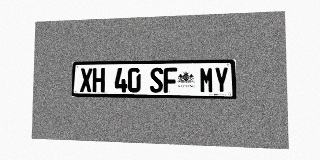0: (128, 68, 140, 92)
4: (114, 68, 127, 92)
F: (163, 67, 177, 93)
H: (92, 68, 105, 92)
M: (199, 67, 214, 93)
S: (150, 67, 163, 93)
X: (80, 68, 92, 92)
Y: (214, 67, 229, 93)
